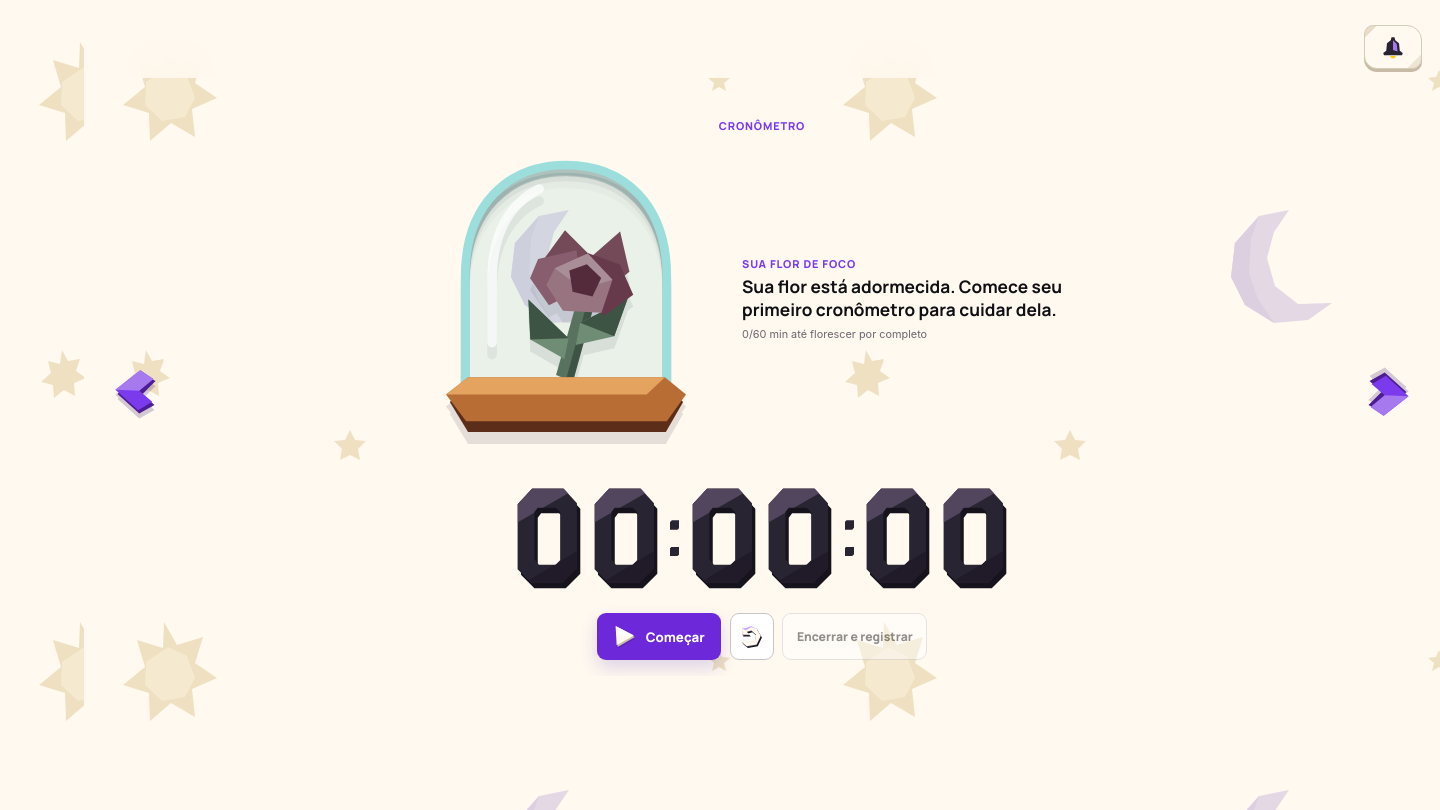
Scenario: persistência semanal e dígitos do Foco › preserva os dias após remontar e mostra somente a semana atual
Step 1. Click the button named "Próximo modo" → coordinates (1388, 393), box x1=1360 y1=365 x2=1416 y2=421
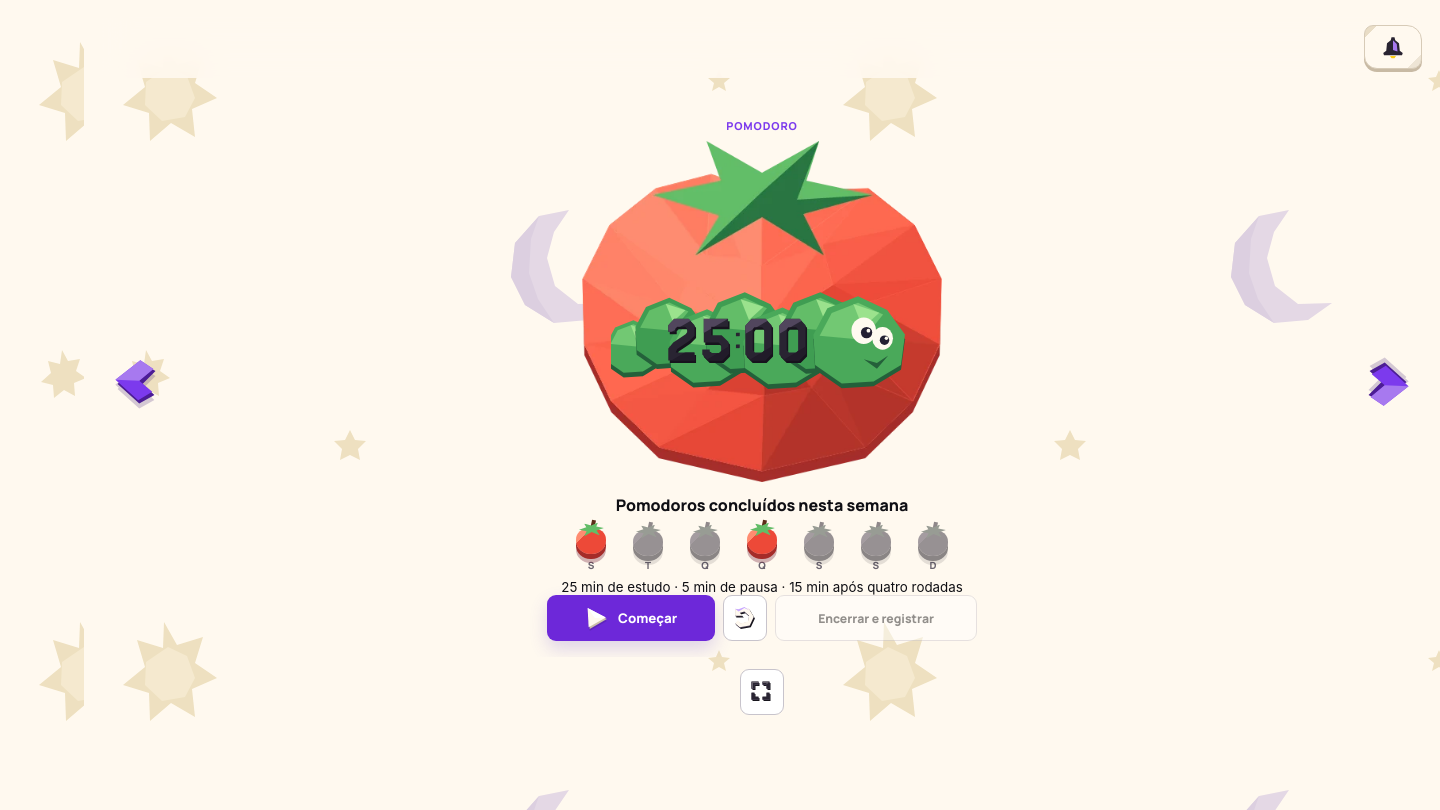
Check: the heading named "25:00" is shown, box x1=666 y1=312 x2=810 y2=365
Check: the number of icons with class "is-active" is 2, box x1=576 y1=528 x2=606 y2=554; x1=747 y1=528 x2=777 y2=554
